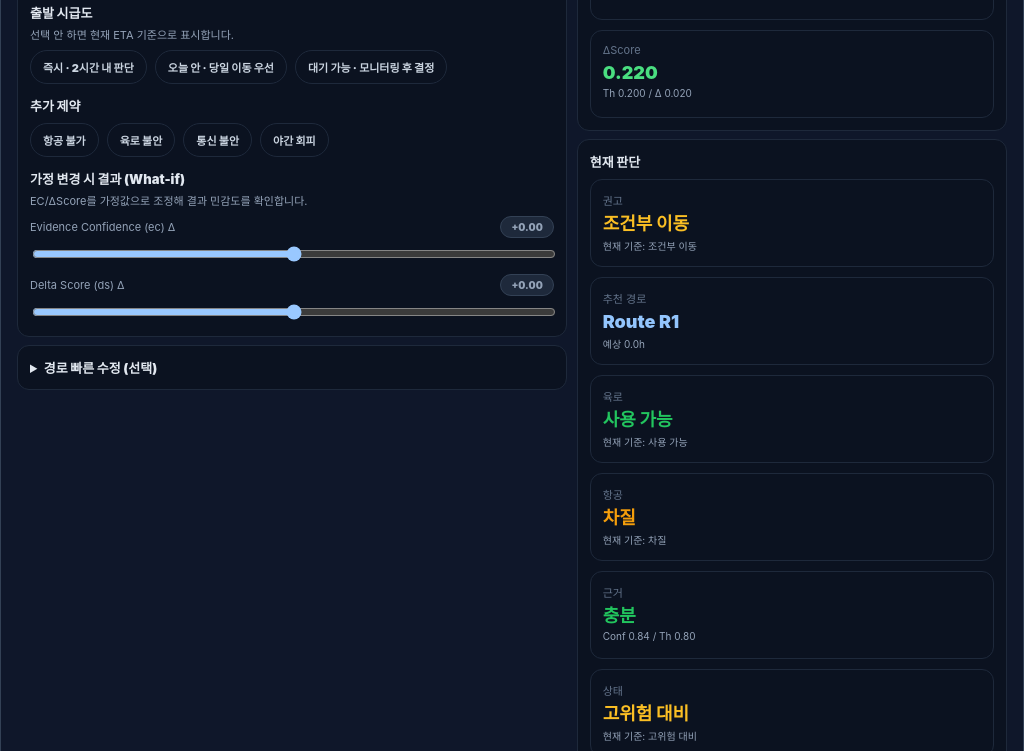
Test case: Simulator › updates route recommendations through the quick route editor
The width and height of the screenshot is (1024, 751).
(page scrolled)
Click the heading "경로 빠른 수정 (선택)": (101, 368) left=44, top=360, right=157, bottom=376
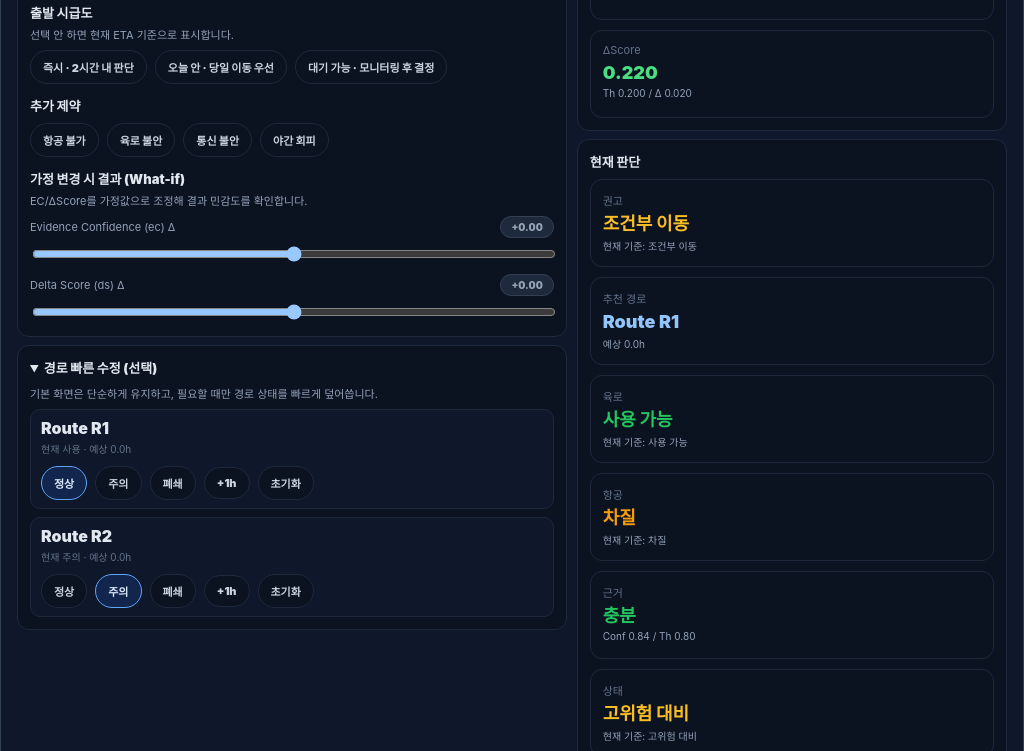
Click the 1st button "폐쇄": (173, 483) left=150, top=466, right=196, bottom=500
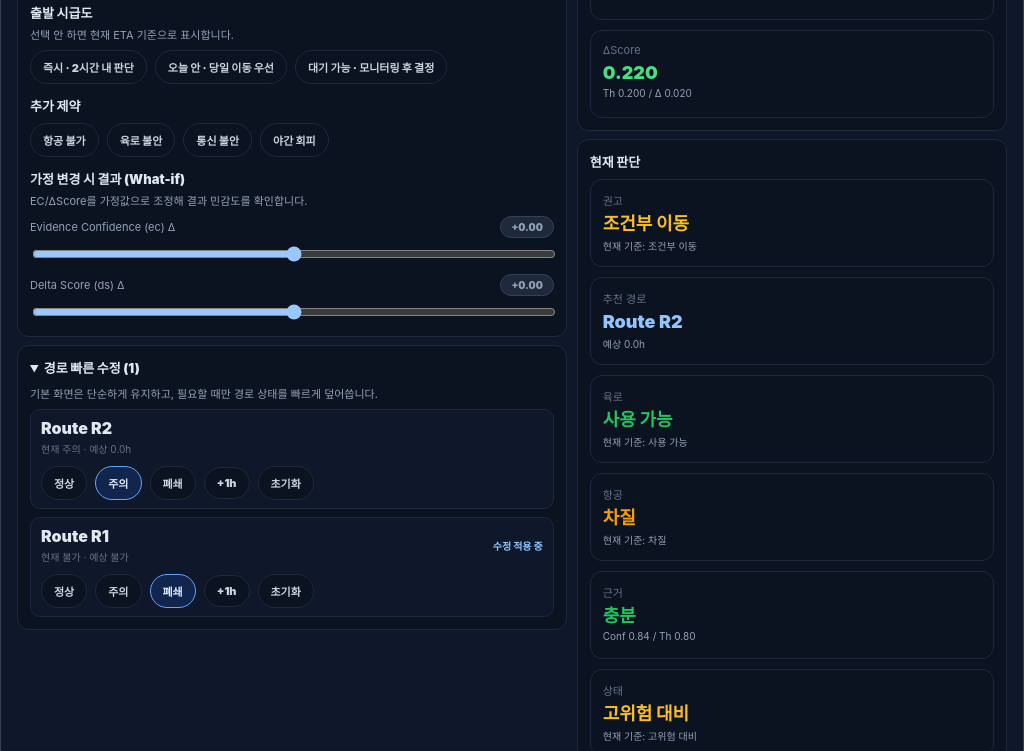
expect the text "추천 경로" shows "예상": met, box left=603, top=338, right=645, bottom=350
expect the text "추천 경로" shows "Route R2": met, box left=603, top=311, right=683, bottom=332
